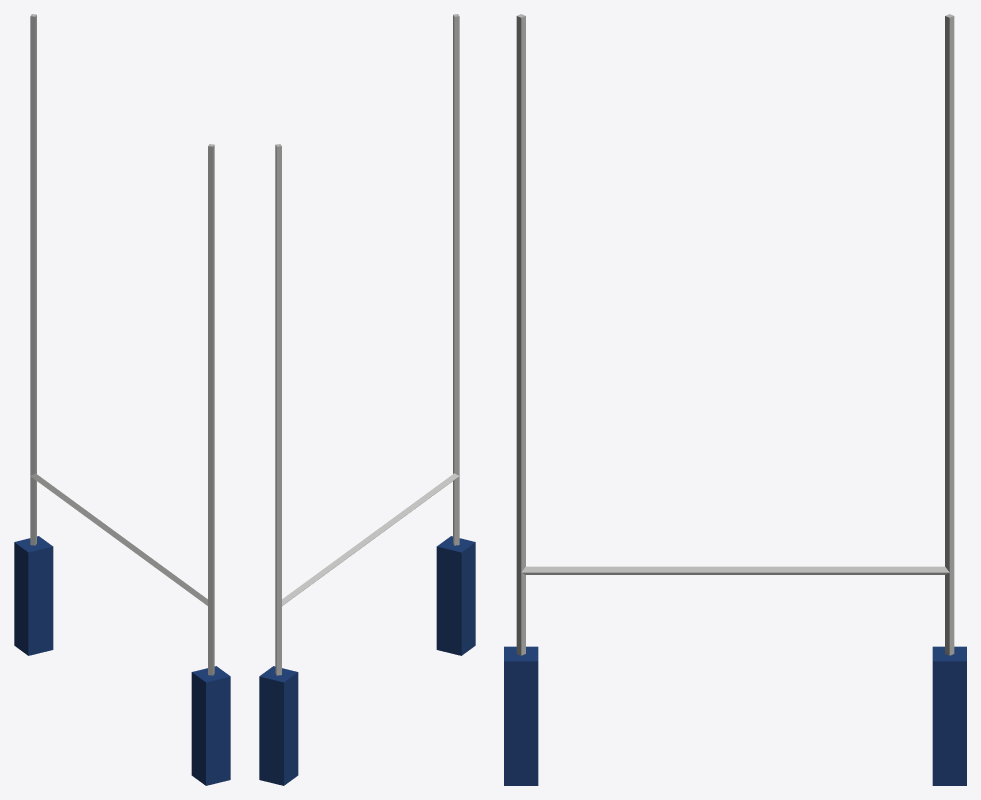
The model's file is SM_Prop_pitch_posts_0_LOD1.glb.
3 views of the same model, side by side, from view 1: azimuth 30°, elevation 25°; view 2: azimuth 150°, elevation 25°; view 3: azimuth 270°, elevation 25° (orthographic). The views are drawn at different scales.
Parts seen in each view (by area): view 1: SM_Prop_pitch_posts_0_LOD1; view 2: SM_Prop_pitch_posts_0_LOD1; view 3: SM_Prop_pitch_posts_0_LOD1.
Boxes of the visible parts, <box> form: SM_Prop_pitch_posts_0_LOD1: <box>14,14,230,785</box>; SM_Prop_pitch_posts_0_LOD1: <box>259,14,475,785</box>; SM_Prop_pitch_posts_0_LOD1: <box>504,14,966,785</box>.
Size of the model in its own units: 0.45 by 11 by 6.05.
